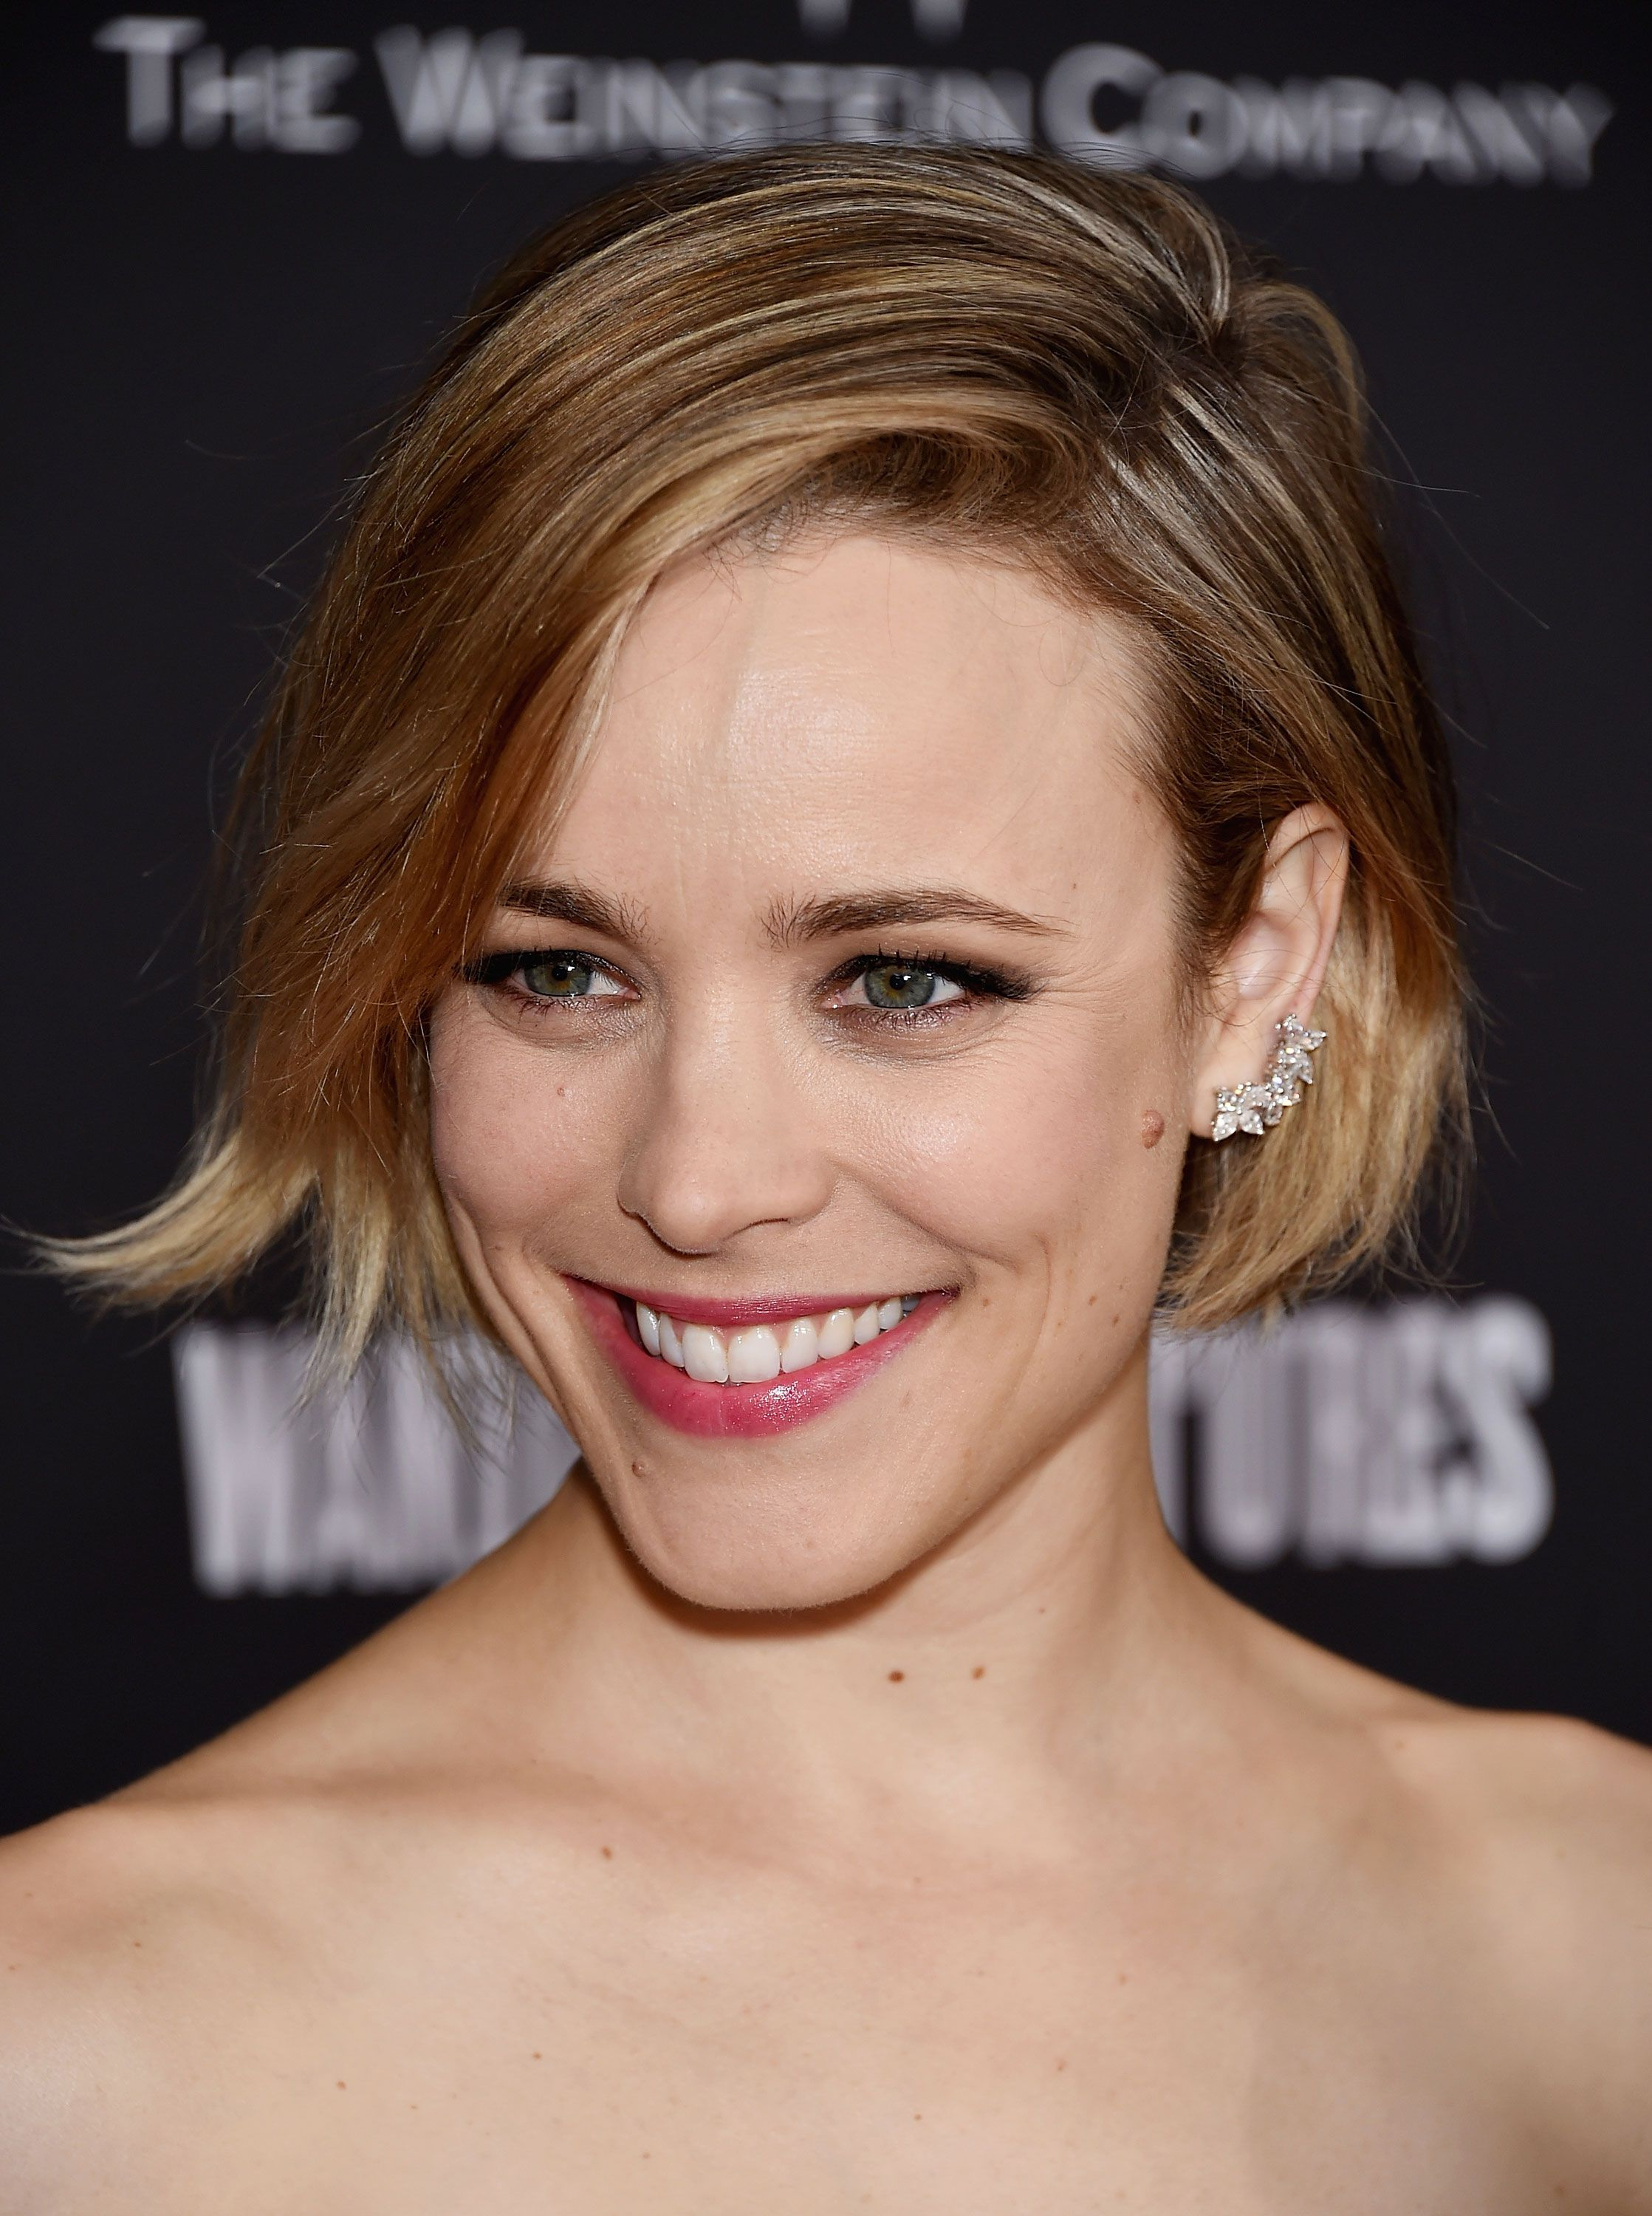mole: (1128, 1088, 1183, 1168), (868, 1650, 918, 1713), (947, 1642, 1001, 1699)
